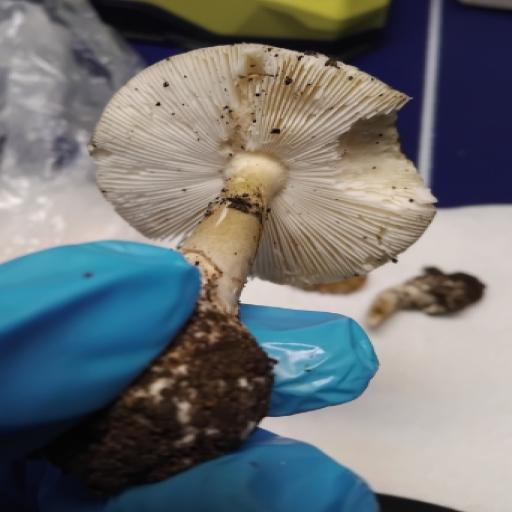Death Cap: (52, 33, 455, 512)
